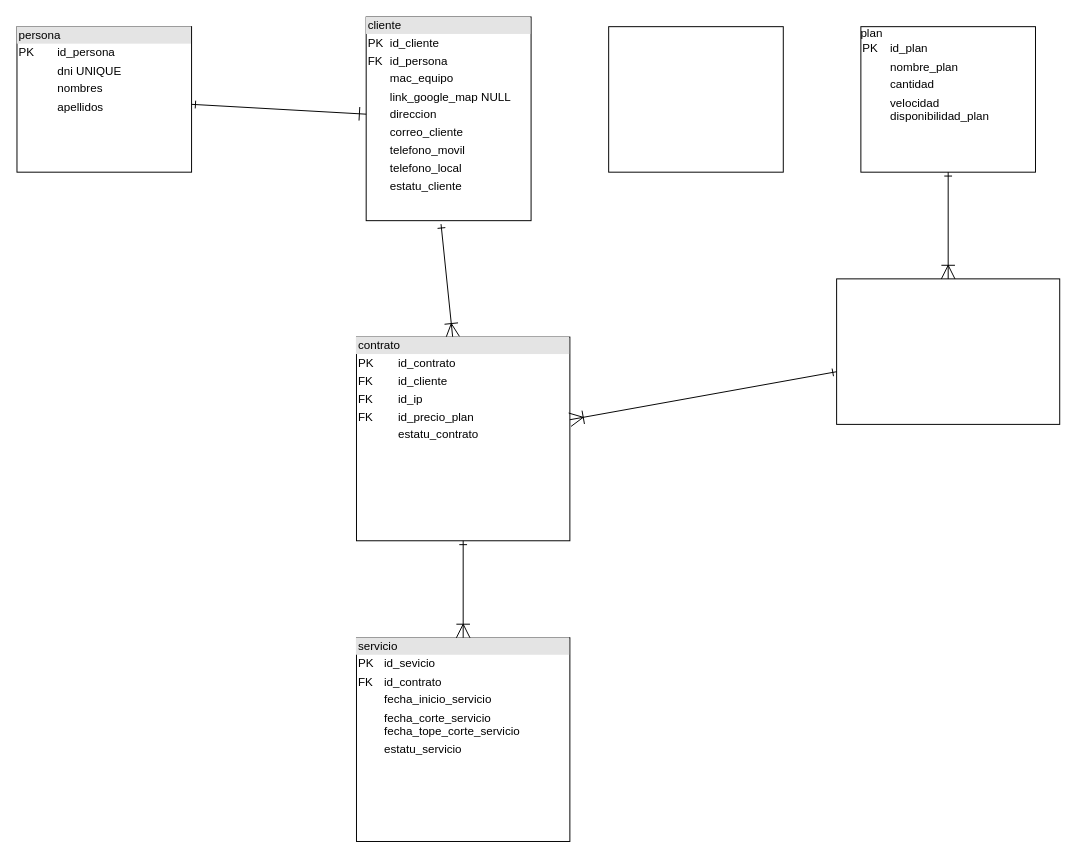
This 1077x858 diagram has some shape labels left out. Each missing label, with the box of its shape:
ip PK id_ip ip disponibilidad_ip: (608, 26, 783, 172)
precio_plan PK id_precio_plan FK id_plan precio disponibilidad_precio_plan: (836, 278, 1060, 424)
